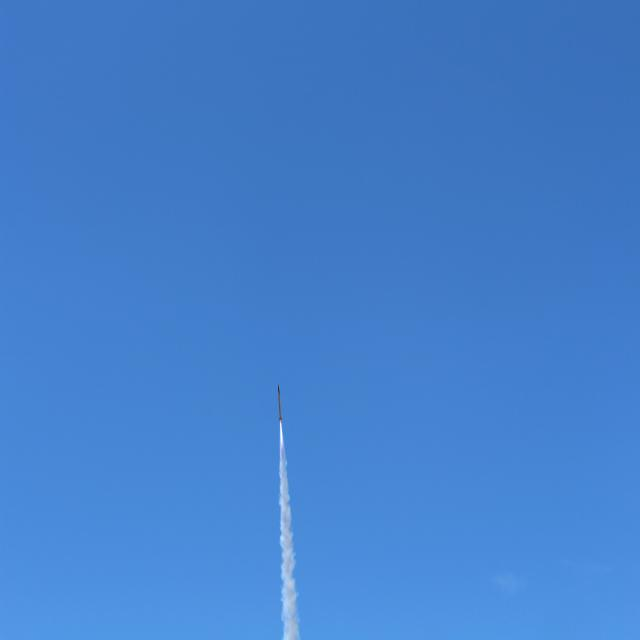Rocket: (278, 383, 282, 421)
